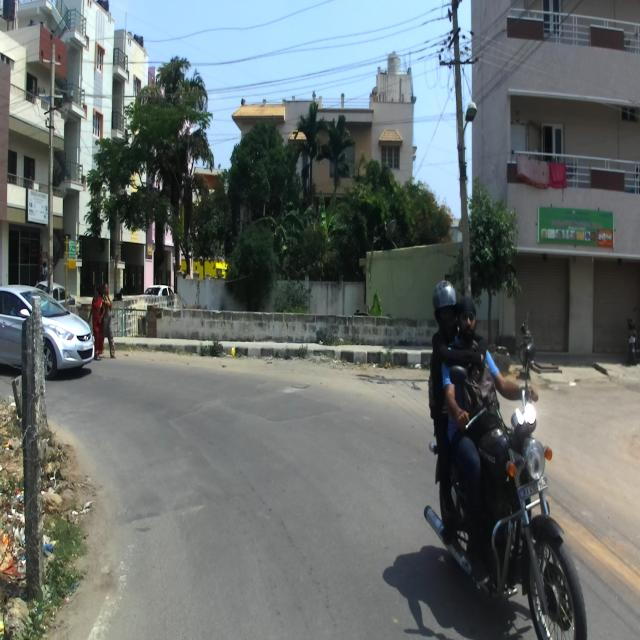barrier ahead at: (16, 309, 45, 599)
motorcycle ahead at: (422, 393, 591, 640)
